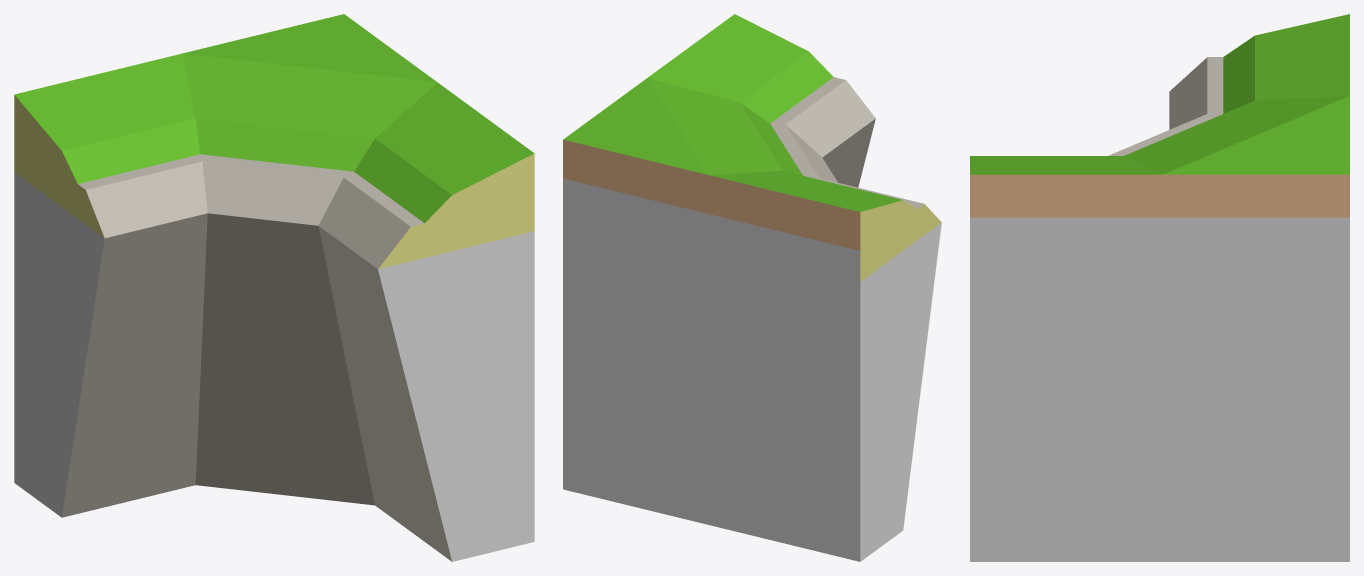
The model's file is Basic_Curve_Inner_2x2_Narrow_Top.glb.
The picture shows the model from 3 angles, left to right: view 1: azimuth 30°, elevation 25°; view 2: azimuth 150°, elevation 25°; view 3: azimuth 270°, elevation 25°; orthographic projection. The views are drawn at different scales.
Visible parts, largest first — view 1: Basic_Curve_Inner_2x2_Narrow_Top; view 2: Basic_Curve_Inner_2x2_Narrow_Top; view 3: Basic_Curve_Inner_2x2_Narrow_Top.
Boxes of the visible parts, bbox=[...] form: Basic_Curve_Inner_2x2_Narrow_Top: bbox=[14, 14, 534, 561]; Basic_Curve_Inner_2x2_Narrow_Top: bbox=[563, 14, 941, 561]; Basic_Curve_Inner_2x2_Narrow_Top: bbox=[970, 14, 1349, 561].
Size of the model in its own units: 200 by 225 by 200.
